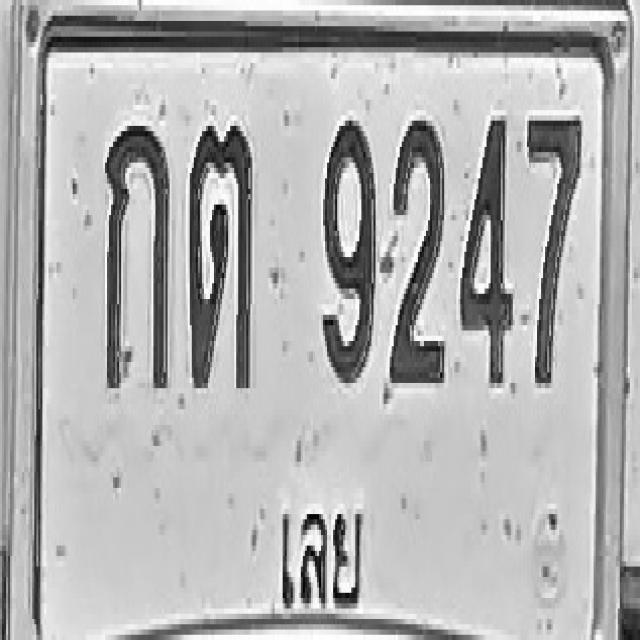10GorGai: (104, 121, 169, 388)
2: (388, 115, 444, 388)
30TorTao: (188, 121, 252, 388)
4: (458, 112, 513, 386)
7: (527, 112, 581, 386)
9: (322, 115, 375, 383)
Loei: (267, 480, 371, 630)
